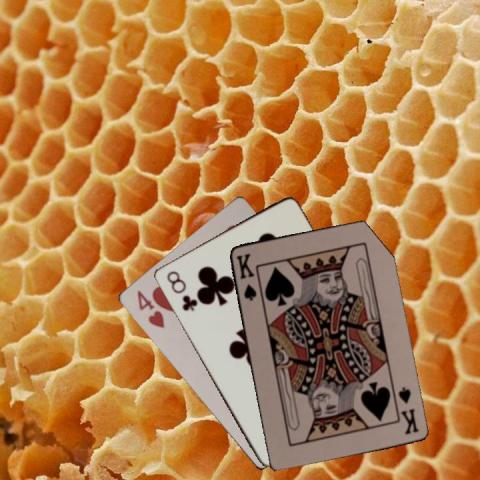4h: (133, 287, 166, 330)
8c: (163, 267, 197, 313)
Ks: (395, 383, 420, 436), (233, 250, 258, 302)
